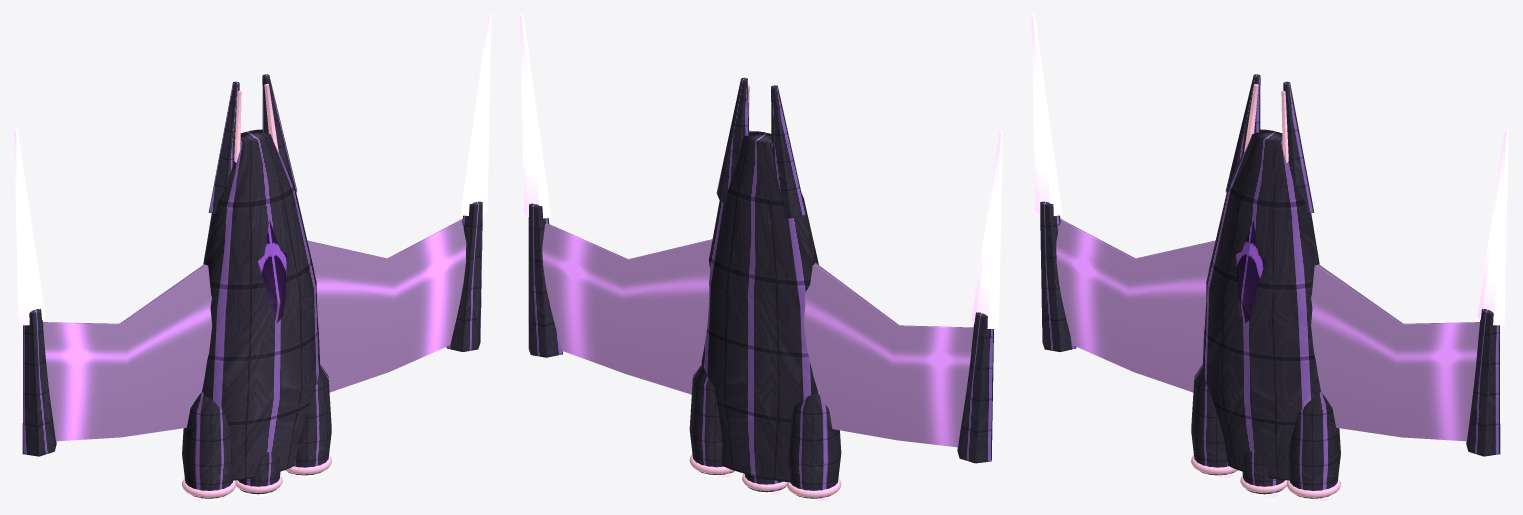
File: ship_a3_phantom.glb
3 renders of one model, left to right at view 1: azimuth 30°, elevation 25°; view 2: azimuth 150°, elevation 25°; view 3: azimuth 330°, elevation 25°, orthographic.
Visible parts, largest first — view 1: ship_a3_phantom; view 2: ship_a3_phantom; view 3: ship_a3_phantom.
Boxes of the visible parts, bbox=[...] form: ship_a3_phantom: bbox=[14, 14, 491, 500]; ship_a3_phantom: bbox=[520, 14, 1002, 500]; ship_a3_phantom: bbox=[1031, 14, 1508, 500].
Bounding box in the file's own units: 4.19 × 3.52 × 0.577.
Materials: 5 (5 with a texture image).
